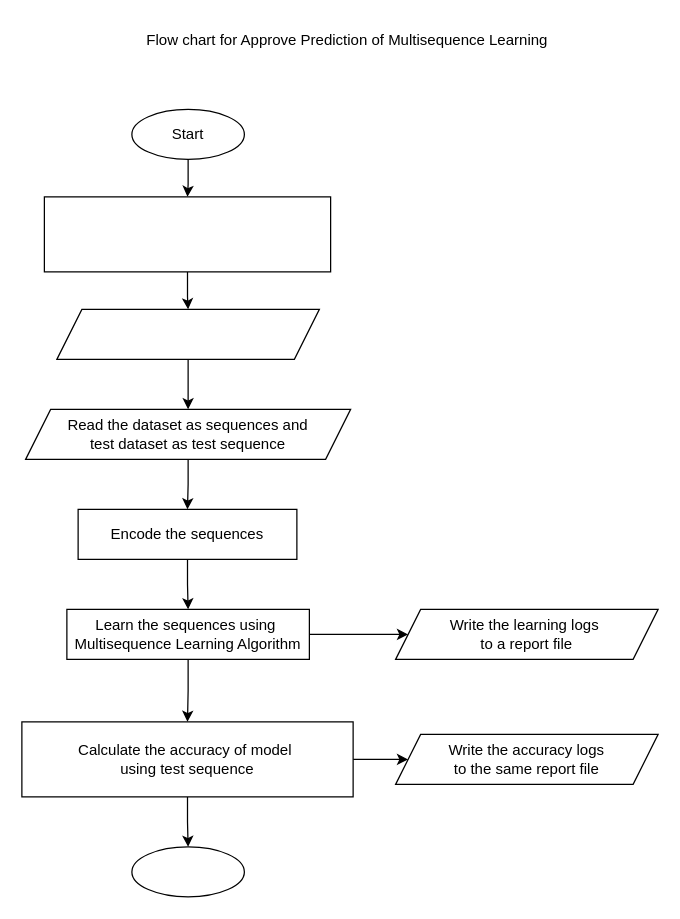
The diagram is 680 pixels wide and 919 high, and some of its shapes have lost their labels. Here are the shapes that lost their labels. From the top down, the centre of each, then its label:
At point 187,234: "Set config for creating dataset and test dataset".
At point 187,333: "Save the dataset and test dataset".
At point 187,871: "Stop".
